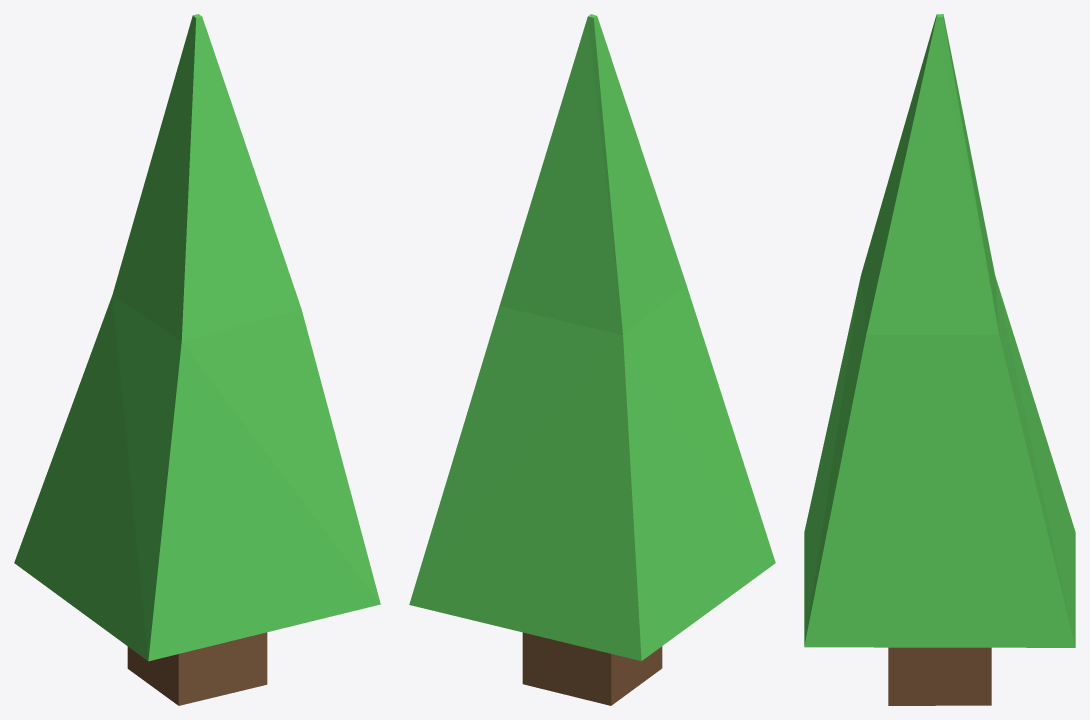
The model's file is pine2.glb.
3 renders of one model, left to right at view 1: azimuth 30°, elevation 25°; view 2: azimuth 150°, elevation 25°; view 3: azimuth 270°, elevation 25°, orthographic.
Parts seen in each view (by area): view 1: Pine1; view 2: Pine1; view 3: Pine1.
Boxes of the visible parts, bbox=[...] form: Pine1: bbox=[14, 14, 380, 705]; Pine1: bbox=[409, 14, 775, 705]; Pine1: bbox=[804, 14, 1075, 705].
Size of the model in its own units: 0.8036 by 2.18 by 0.8035.
